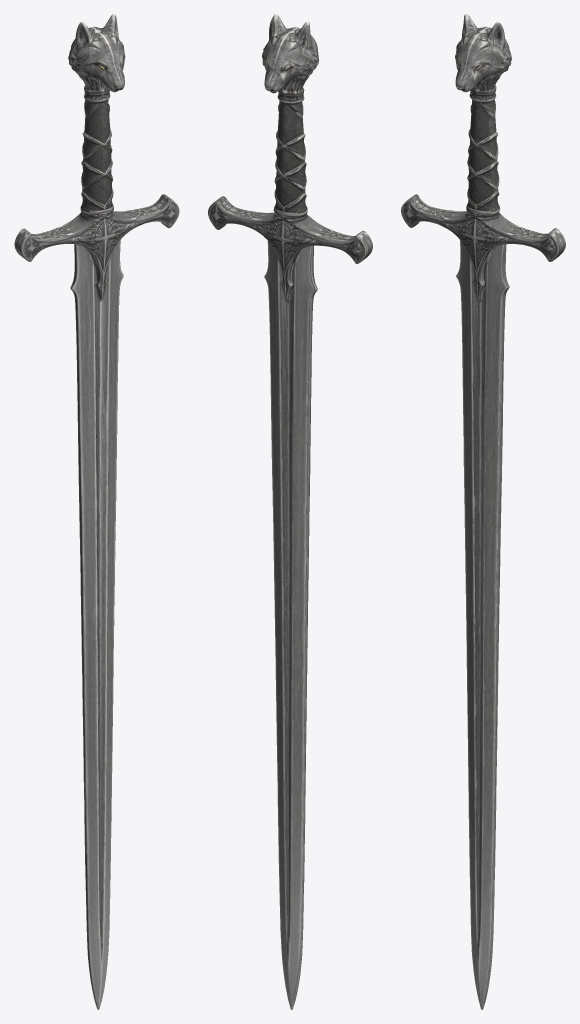
The model's file is sword.glb.
3 views of the same model, side by side, from view 1: azimuth 30°, elevation 25°; view 2: azimuth 150°, elevation 25°; view 3: azimuth 330°, elevation 25° (orthographic).
Bounding box in the file's own units: 0.3191 × 1.9 × 0.1629.
Materials: 1 (1 with a texture image).
